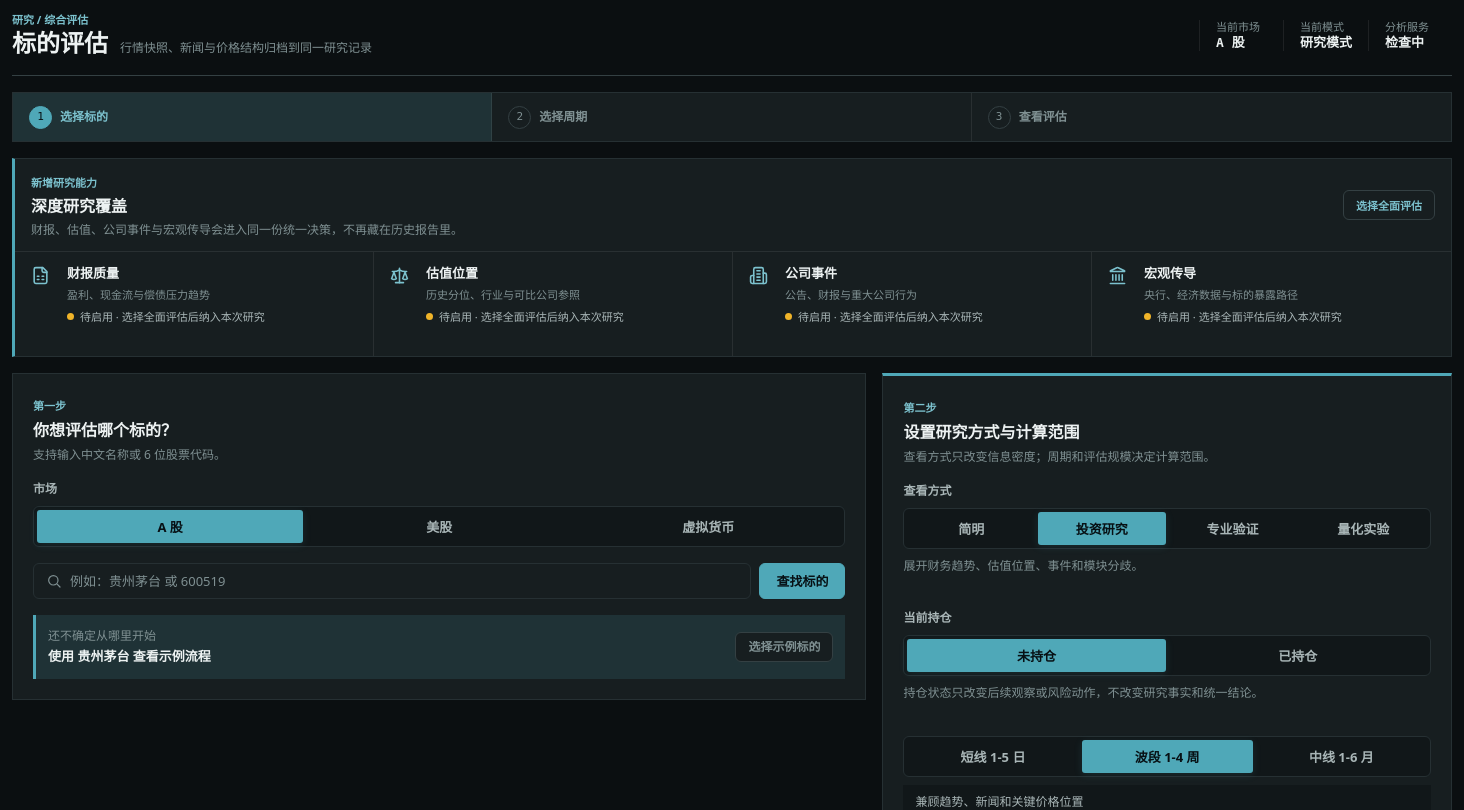
StockEvaluationStartPage › opens the workspace without creating or looking up an evaluation task
Click the button "选择示例标的" at x=784, y=647, box [735,632,833,662]
(page scrolled)
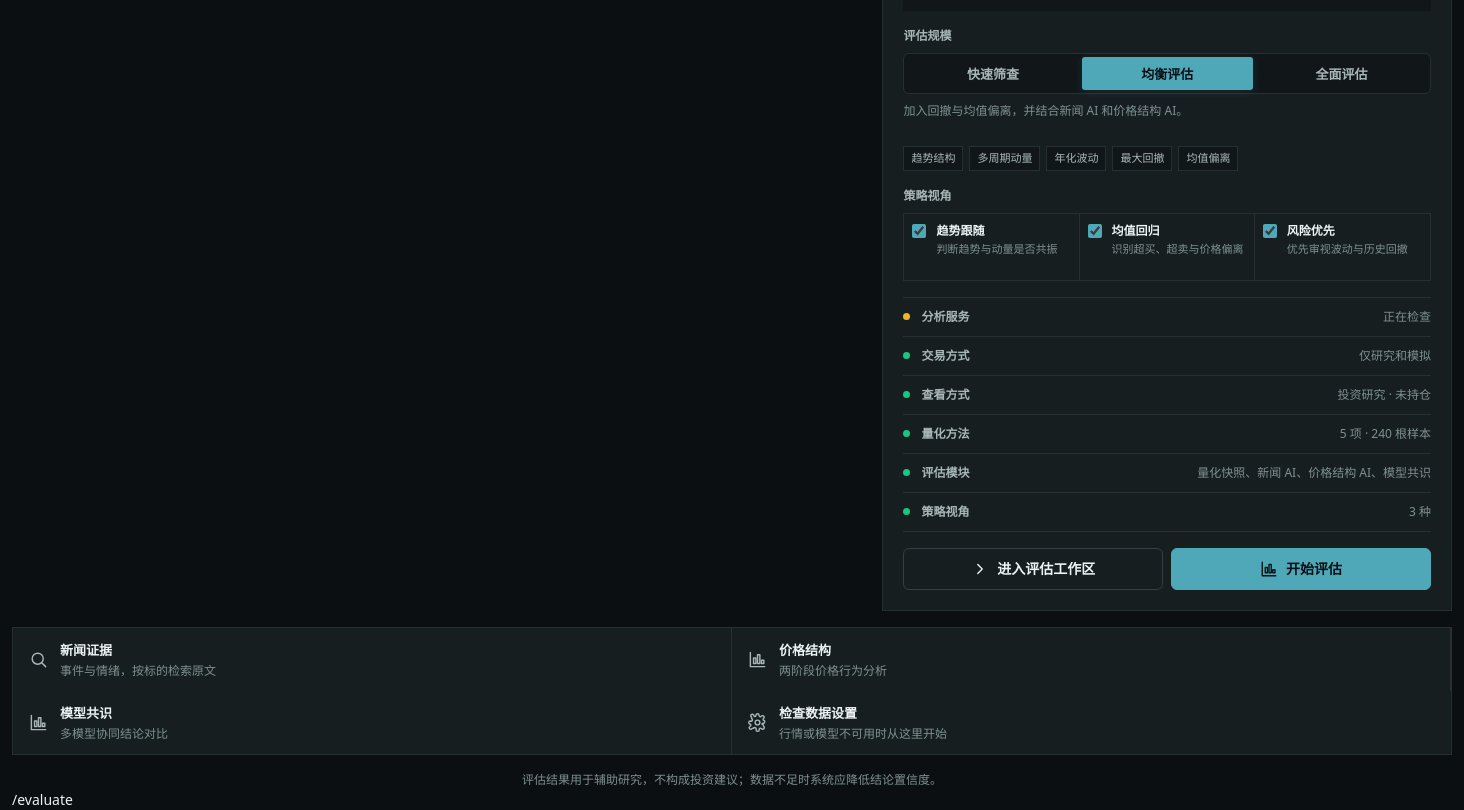
Click the button "进入评估工作区" at x=1033, y=568, box [903,548,1163,590]
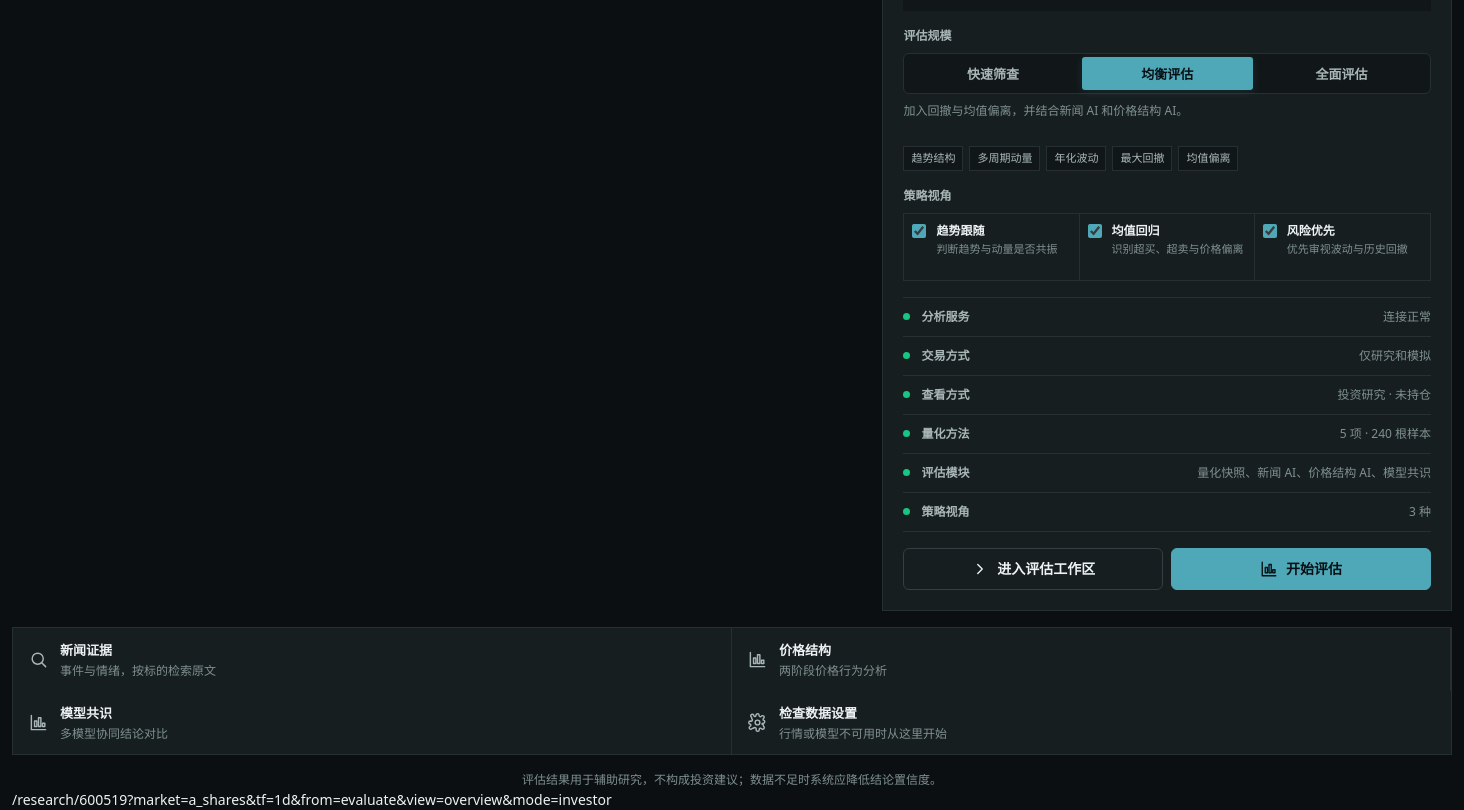
Expected: the text named "current location" reads "/research/600519?market=a_shares&tf=1d&from=evaluate&view=overview&mode=investor", [12,790,612,808]
